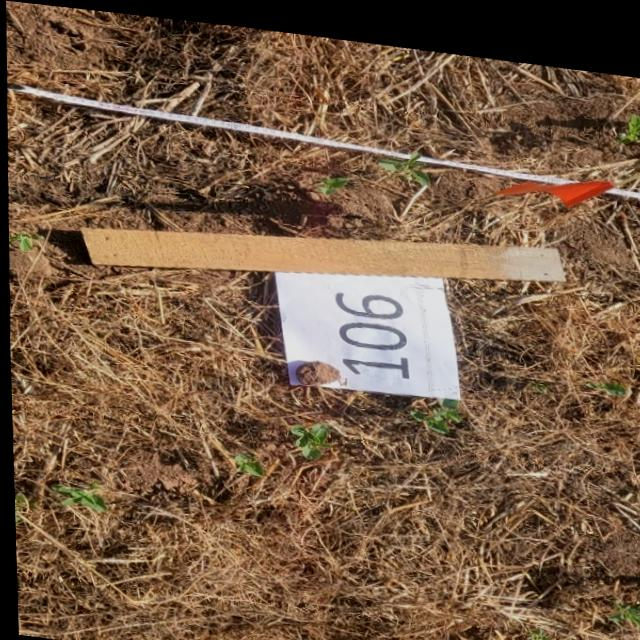soy_plant: (408, 386, 458, 423), (378, 142, 429, 174), (48, 481, 103, 508), (288, 416, 329, 452), (604, 585, 640, 613), (524, 616, 556, 639), (617, 98, 640, 129), (231, 447, 260, 470), (7, 231, 41, 250), (315, 169, 347, 186), (11, 491, 29, 520)
